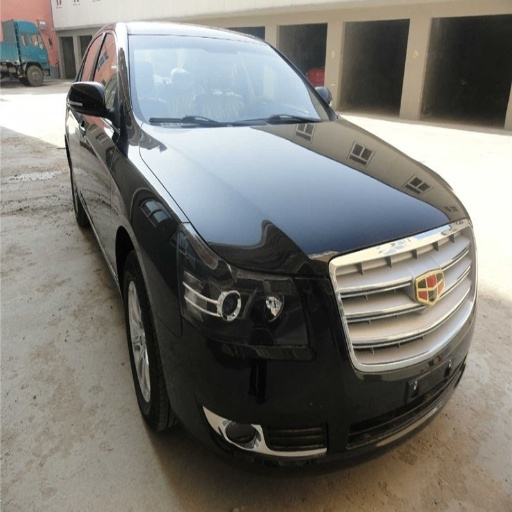front_bumper: (161, 233, 470, 454)
front_right_door: (78, 32, 124, 232)
front_right_light: (255, 274, 297, 318)
hood: (146, 121, 461, 275)
